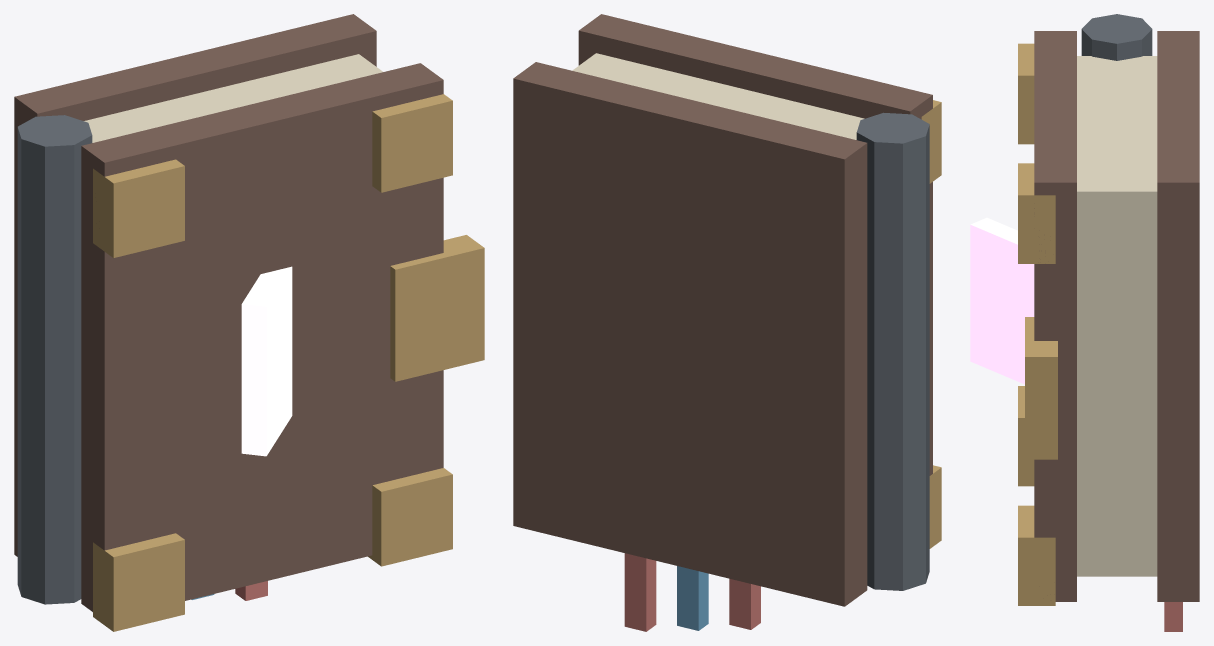
Rendered from arcane_spellbook_closed.glb.
3 views of the same model, side by side, from view 1: azimuth 30°, elevation 25°; view 2: azimuth 150°, elevation 25°; view 3: azimuth 270°, elevation 25° (orthographic). The views are drawn at different scales.
Visible parts, largest first — view 1: FrontCover, Spine, BackCover, Clasp, RaisedGlyph, Corner_-0.3_0.4, Corner_-0.3_-0.4, PageBlock, Corner_0.3_-0.4, Corner_0.3_0.4; view 2: BackCover, Spine, FrontCover, PageBlock, Bookmark_2, Bookmark_1, Bookmark_0, Corner_-0.3_0.4, Corner_-0.3_-0.4; view 3: PageBlock, BackCover, FrontCover, RaisedGlyph, Clasp, Corner_0.3_0.4, Corner_0.3_-0.4, Spine, Corner_-0.3_0.4, Corner_-0.3_-0.4, Bookmark_2.
Boxes of the visible parts, left/top/right/bottom form: FrontCover: left=81, top=63, right=443, bottom=611; Spine: left=17, top=115, right=92, bottom=604; BackCover: left=14, top=14, right=376, bottom=556; Clasp: left=390, top=235, right=484, bottom=381; RaisedGlyph: left=241, top=266, right=292, bottom=456; Corner_-0.3_0.4: left=93, top=159, right=184, bottom=257; Corner_-0.3_-0.4: left=93, top=533, right=184, bottom=631; PageBlock: left=84, top=54, right=382, bottom=142; Corner_0.3_-0.4: left=368, top=468, right=452, bottom=566; Corner_0.3_0.4: left=372, top=94, right=452, bottom=192; BackCover: left=513, top=62, right=867, bottom=606; Spine: left=856, top=112, right=929, bottom=590; FrontCover: left=578, top=14, right=932, bottom=475; PageBlock: left=572, top=53, right=864, bottom=139; Bookmark_2: left=624, top=553, right=656, bottom=631; Bookmark_1: left=677, top=566, right=708, bottom=630; Bookmark_0: left=729, top=578, right=760, bottom=629; Corner_-0.3_0.4: left=921, top=100, right=941, bottom=183; Corner_-0.3_-0.4: left=929, top=465, right=941, bottom=548; PageBlock: left=1077, top=56, right=1157, bottom=576; BackCover: left=1157, top=31, right=1199, bottom=601; FrontCover: left=1034, top=31, right=1076, bottom=601; RaisedGlyph: left=970, top=217, right=1034, bottom=384; Clasp: left=1025, top=317, right=1057, bottom=459; Corner_0.3_0.4: left=1018, top=163, right=1055, bottom=263; Corner_0.3_-0.4: left=1018, top=505, right=1055, bottom=605; Spine: left=1081, top=14, right=1152, bottom=60; Corner_-0.3_0.4: left=1018, top=43, right=1034, bottom=144; Corner_-0.3_-0.4: left=1018, top=386, right=1034, bottom=486; Bookmark_2: left=1164, top=602, right=1182, bottom=631.
Size of the model in its own units: 0.925 by 1.16 by 0.4858.
